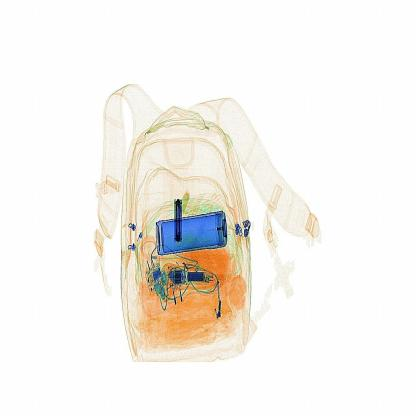scissors: (167, 188, 195, 245)
